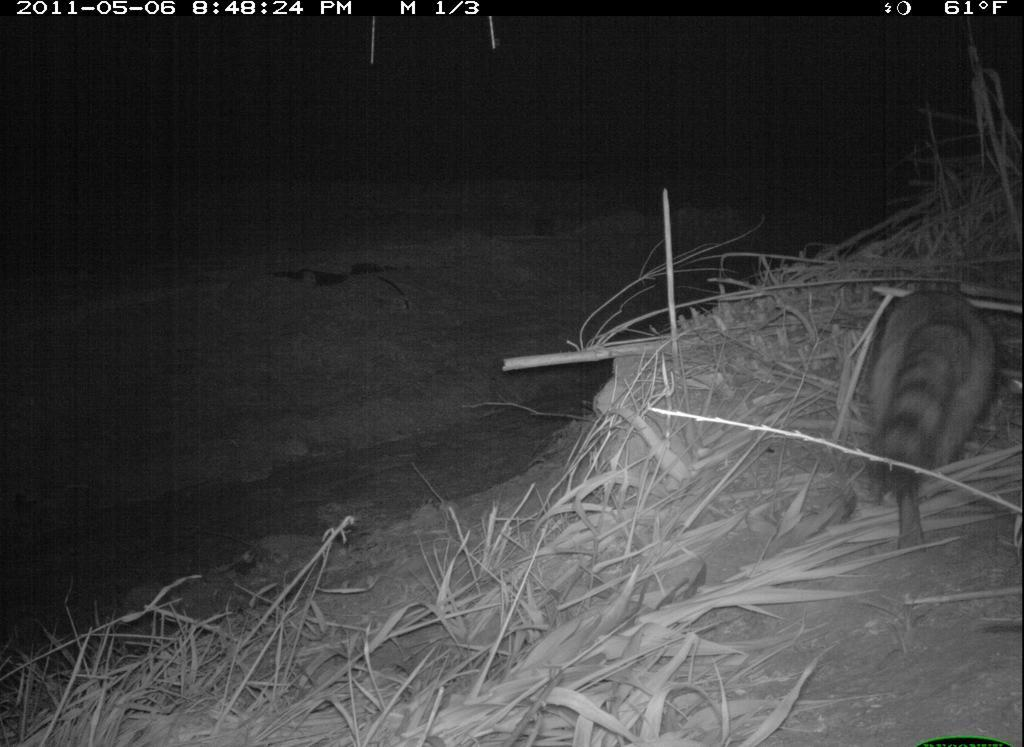raccoon: (859, 282, 1004, 555)
